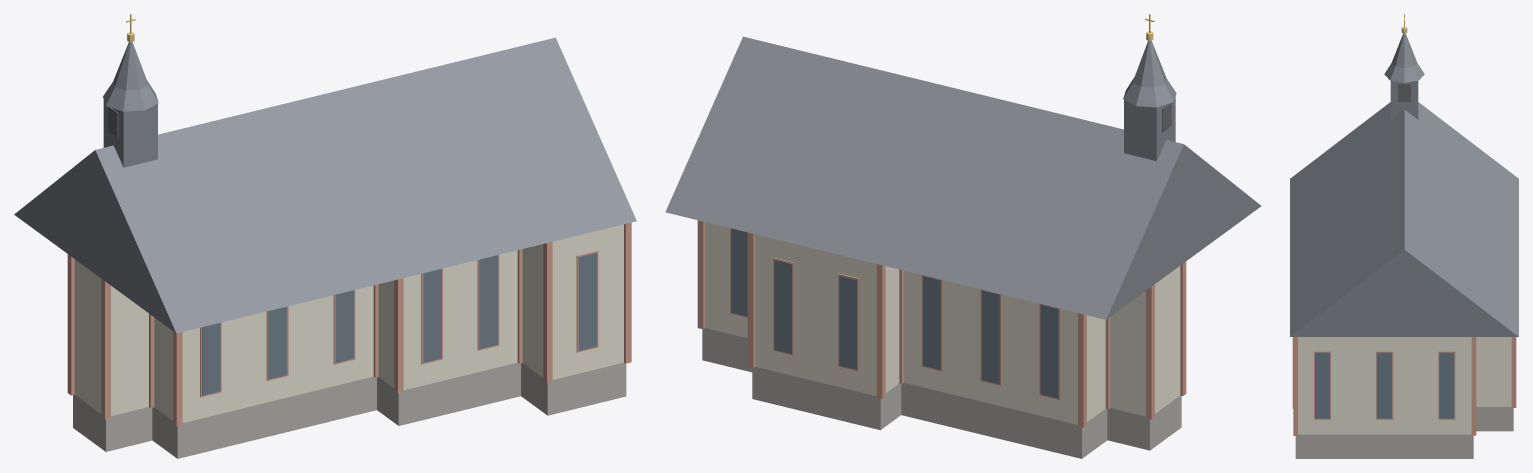
The model's file is kandern-st-franz.glb.
The picture shows the model from 3 angles, left to right: view 1: azimuth 30°, elevation 25°; view 2: azimuth 150°, elevation 25°; view 3: azimuth 270°, elevation 25°; orthographic projection. The views are drawn at different scales.
Visible parts, largest first — view 1: building; view 2: building; view 3: building.
Part boxes in pixels (x1,y1,x2,y2): building: [14, 14, 636, 458]; building: [665, 14, 1261, 458]; building: [1290, 14, 1518, 458].
Bounding box in the file's own units: 34.94 × 31 × 21.35.
